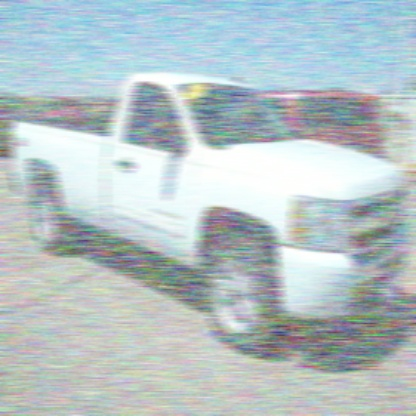Vehicle: (4, 54, 415, 371)
